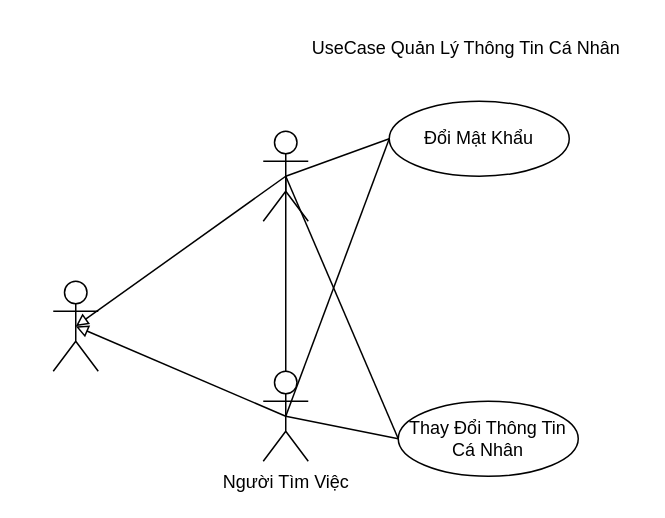
The diagram is 665 pixels wide and 518 high, and some of its shapes have lost their labels. Here are the shapes that lost their labels. From the top down, the centre of each, then its label:
point 285,175: Công Ty
point 75,325: Người Dùng
